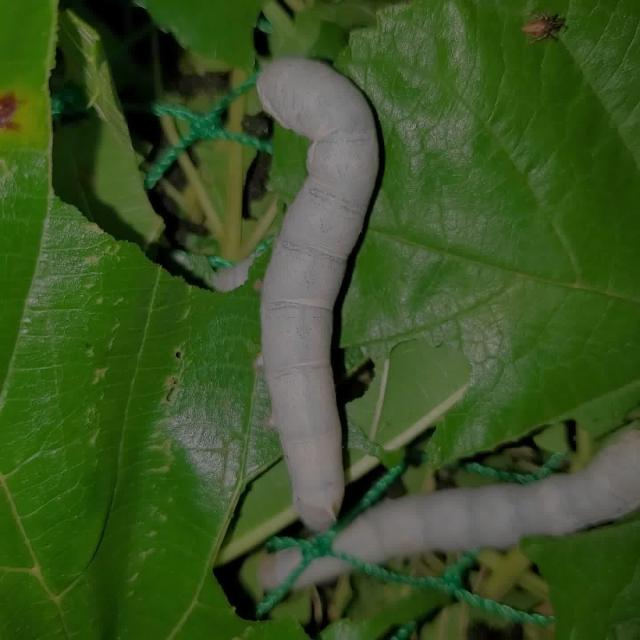Healthy: (200, 39, 470, 553)
